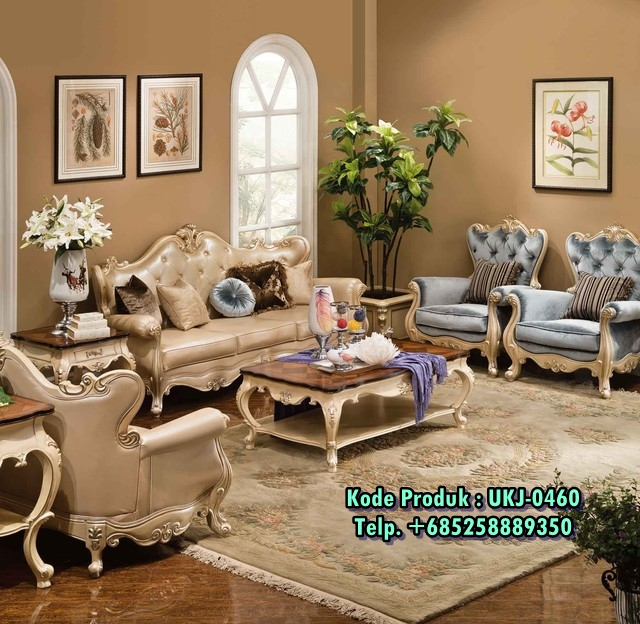Carving Chair: (1, 341, 237, 562), (112, 232, 361, 380), (422, 206, 640, 366)
Carving Table: (245, 341, 472, 454)
